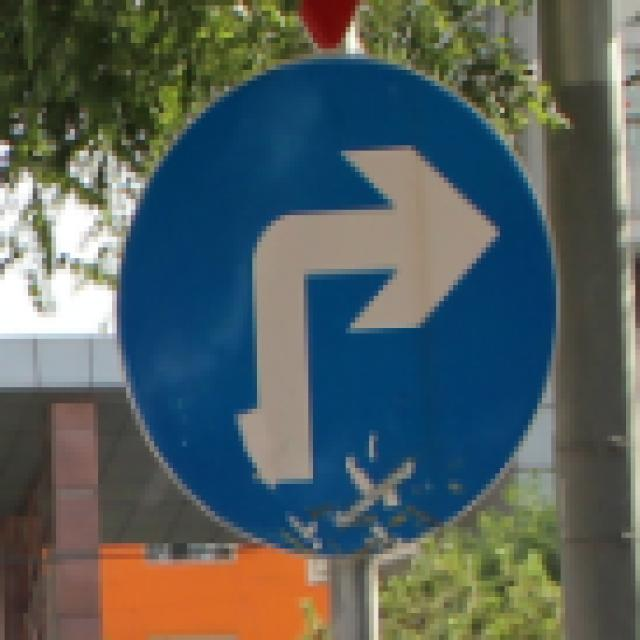Right: (110, 48, 548, 556)
